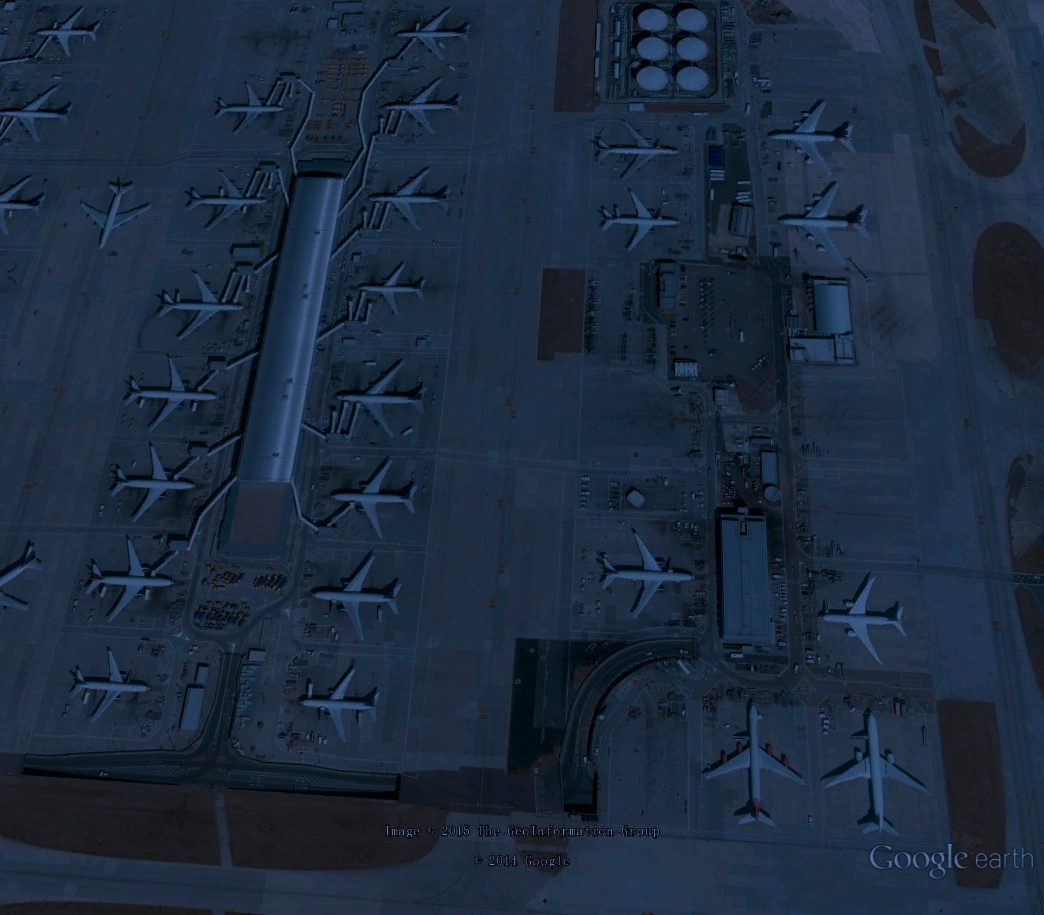aircraft: (698, 698, 812, 835), (820, 708, 937, 840), (596, 529, 701, 623), (307, 549, 407, 647), (777, 181, 876, 273), (818, 574, 910, 673), (121, 350, 225, 437), (80, 535, 178, 626), (326, 453, 425, 543), (763, 96, 862, 181), (333, 355, 433, 439), (295, 661, 386, 748), (107, 442, 199, 526), (155, 264, 247, 345), (66, 645, 153, 727), (362, 165, 456, 235), (178, 168, 271, 237), (590, 118, 684, 185), (597, 187, 686, 257), (78, 174, 154, 253), (377, 76, 467, 141), (209, 76, 291, 141), (390, 5, 478, 65), (356, 259, 430, 324), (3, 81, 74, 147), (30, 3, 104, 64), (3, 541, 47, 616), (0, 173, 46, 238)
